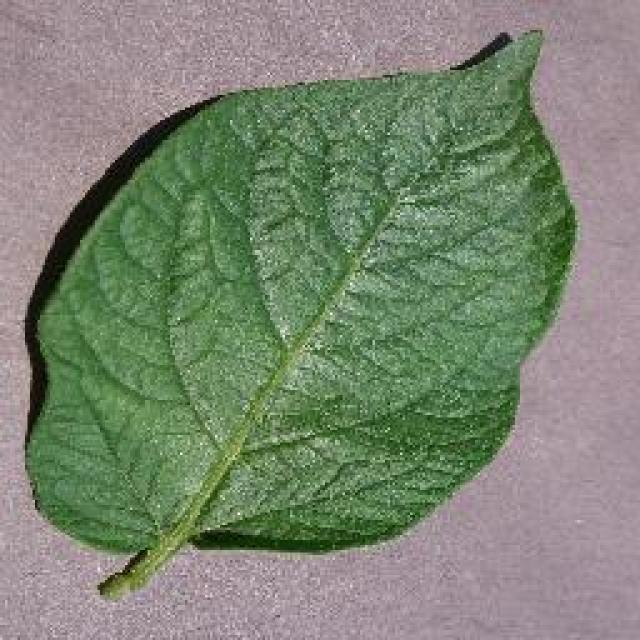healthy: (18, 22, 582, 598)
